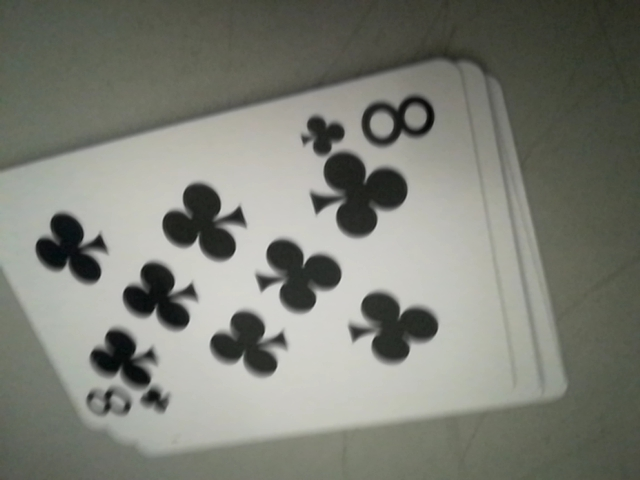mh 8: (297, 87, 446, 160), (77, 374, 167, 425)
